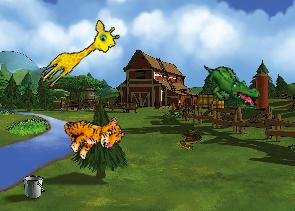crocodile: (198, 63, 263, 108)
giraffe: (36, 15, 123, 98)
tiger: (58, 100, 127, 166)
